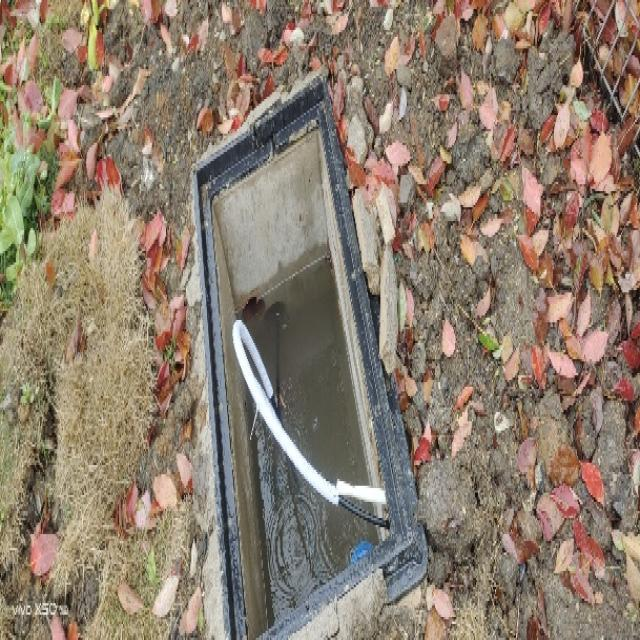Faulty: (174, 65, 431, 640)
